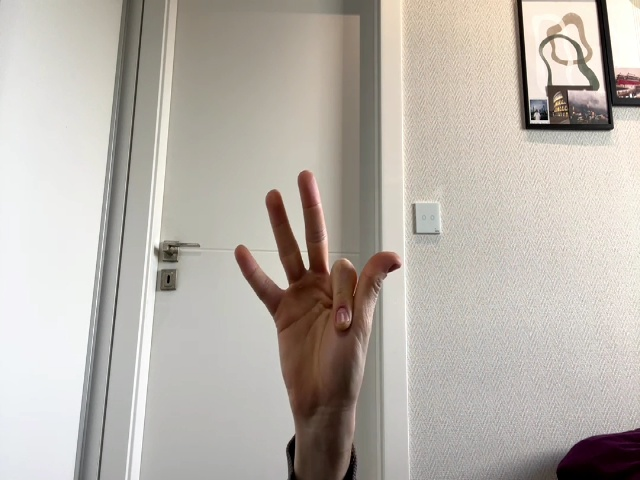F: (235, 171, 402, 402)
